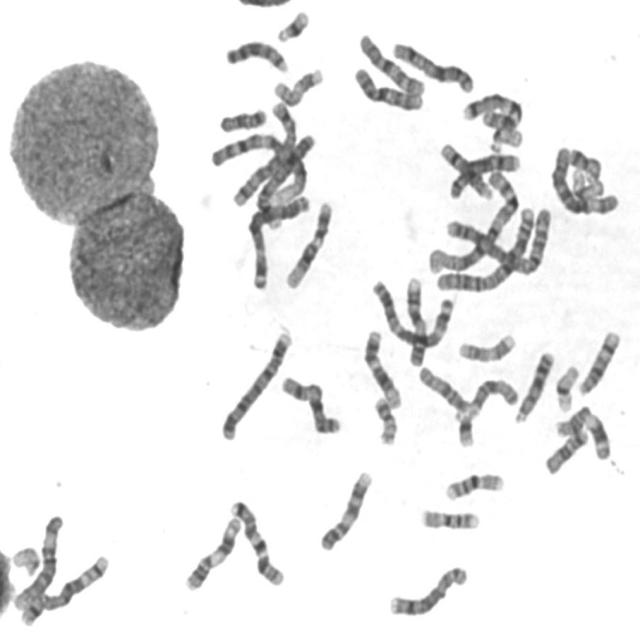A1: (423, 155, 523, 278), (208, 128, 312, 209)
A2: (428, 200, 546, 291), (425, 202, 550, 279)
A3: (243, 190, 312, 292), (368, 274, 456, 349)
B4: (217, 326, 294, 443), (254, 137, 324, 234)
B5: (227, 98, 299, 208), (16, 550, 110, 626)
C10: (356, 27, 426, 98), (350, 61, 426, 113)
C11: (180, 512, 243, 594), (552, 400, 613, 462)
C12: (282, 196, 335, 290), (359, 325, 404, 410)
C6: (10, 509, 64, 613), (548, 141, 621, 217)
C7: (225, 494, 287, 588), (458, 86, 524, 136)
C8: (385, 561, 470, 619), (446, 148, 524, 200)
C9: (315, 466, 375, 553), (401, 272, 429, 368)
D13: (511, 346, 556, 426), (222, 35, 290, 75)
D14: (436, 137, 496, 201), (574, 324, 623, 396)
D15: (414, 361, 472, 414), (464, 373, 521, 418)
E16: (440, 467, 506, 503), (416, 504, 482, 532)
E17: (269, 62, 325, 108), (454, 328, 518, 364)
E18: (541, 424, 590, 477), (215, 103, 269, 134)
F19: (551, 361, 581, 414), (568, 166, 606, 203)
F20: (370, 392, 399, 447), (566, 144, 603, 182)
G21: (272, 5, 312, 44), (452, 405, 476, 449)
G22: (9, 543, 45, 578), (486, 122, 524, 151)
X: (388, 36, 476, 94), (277, 371, 343, 437)
